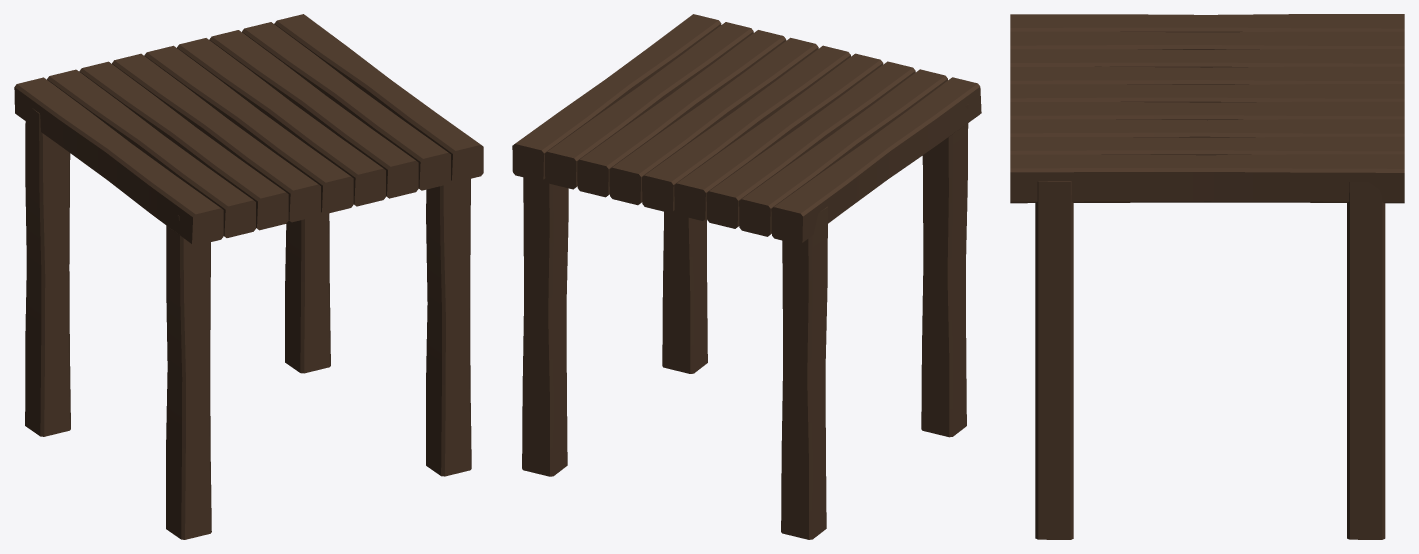
The model's file is StairSet1.fbx.
The picture shows the model from 3 angles, left to right: view 1: azimuth 30°, elevation 25°; view 2: azimuth 150°, elevation 25°; view 3: azimuth 270°, elevation 25°; orthographic projection. The views are drawn at different scales.
Parts seen in each view (by area): view 1: Cube.045; view 2: Cube.045; view 3: Cube.045.
Boxes of the visible parts, x1,y1,x2,y2 form: Cube.045: (14, 14, 483, 539); Cube.045: (512, 14, 981, 539); Cube.045: (1010, 14, 1404, 539).
Bounding box in the file's own units: 2.37 × 2.58 × 2.5.
